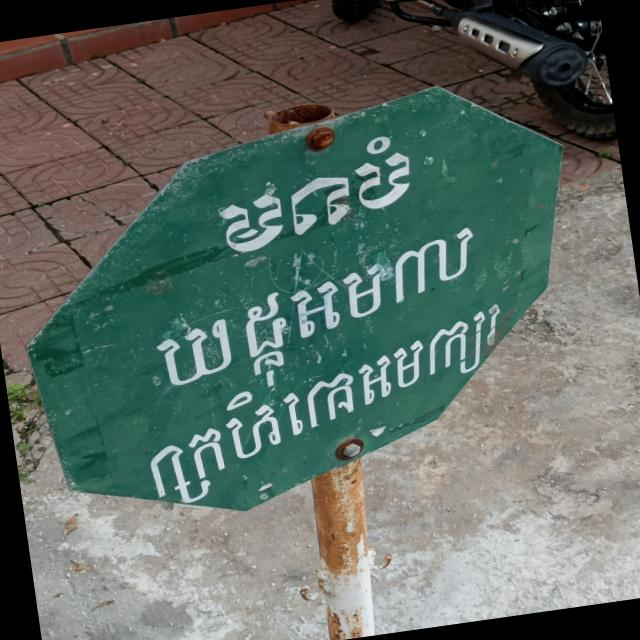Yolov11_80vkh: (121, 285, 525, 522), (129, 220, 504, 421), (184, 120, 437, 276)
